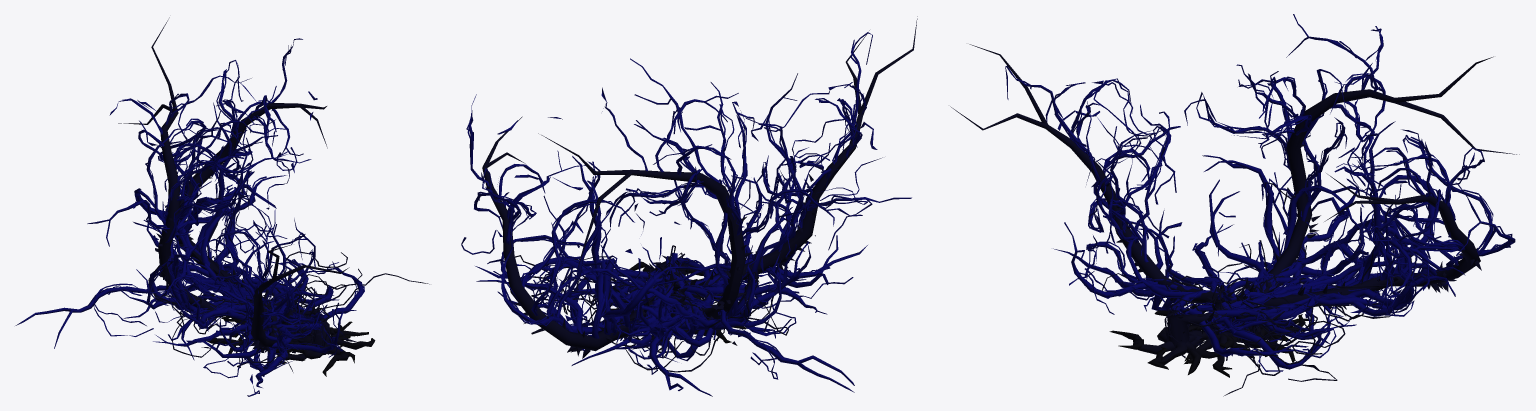
The model's file is Sm_SpikeTree_12.FBX.
3 renders of one model, left to right at view 1: azimuth 30°, elevation 25°; view 2: azimuth 150°, elevation 25°; view 3: azimuth 270°, elevation 25°, orthographic. The views are drawn at different scales.
Parts seen in each view (by area): view 1: Sm_SpikeTree_12; view 2: Sm_SpikeTree_12; view 3: Sm_SpikeTree_12.
Part boxes in pixels (<box>): Sm_SpikeTree_12: <box>15,17,429,396</box>; Sm_SpikeTree_12: <box>461,16,917,396</box>; Sm_SpikeTree_12: <box>950,14,1519,396</box>.
Size of what is drawn, in the model's own units: 1513 by 1780 by 997.
